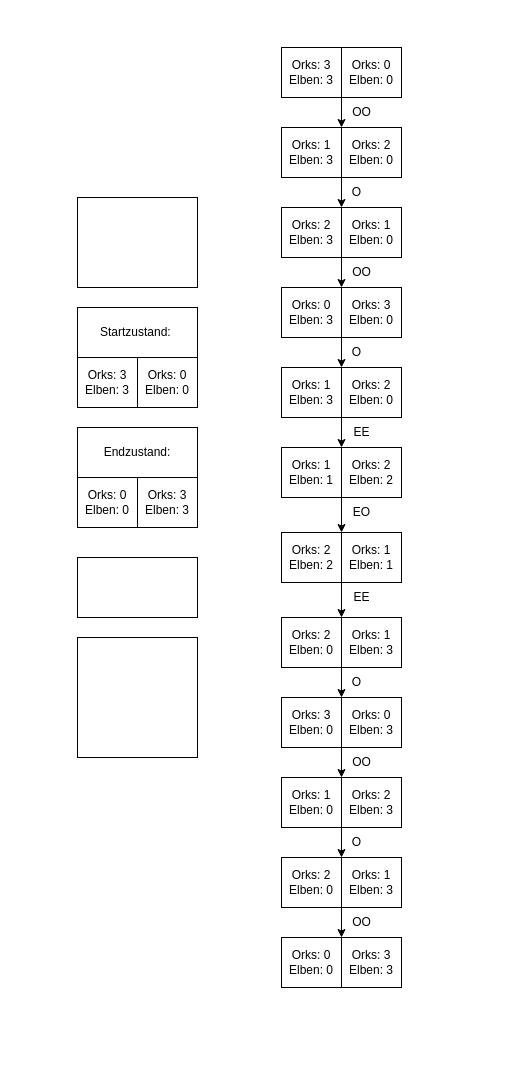
Some shapes in this 505 by 1065 pixel diagram are drawn without their labels. The shapes that lost their labels are listed below. From the top down, each one's centre as x and y in pixels, then its label:
At point 137,242: "Aktionen: O = 1 Ork OO = 2 Orks EO = 1 Elb / 1 Ork EE = 2 Elben".
At point 137,587: "Zustandsraum: E = {0,1,2,3} O = {0,1,2,3}".
At point 137,697: "Regeln: Linke Seite: (E>0) => (Oe<= E) Rechte Seite: (E>0) => (Oe<= E)".
